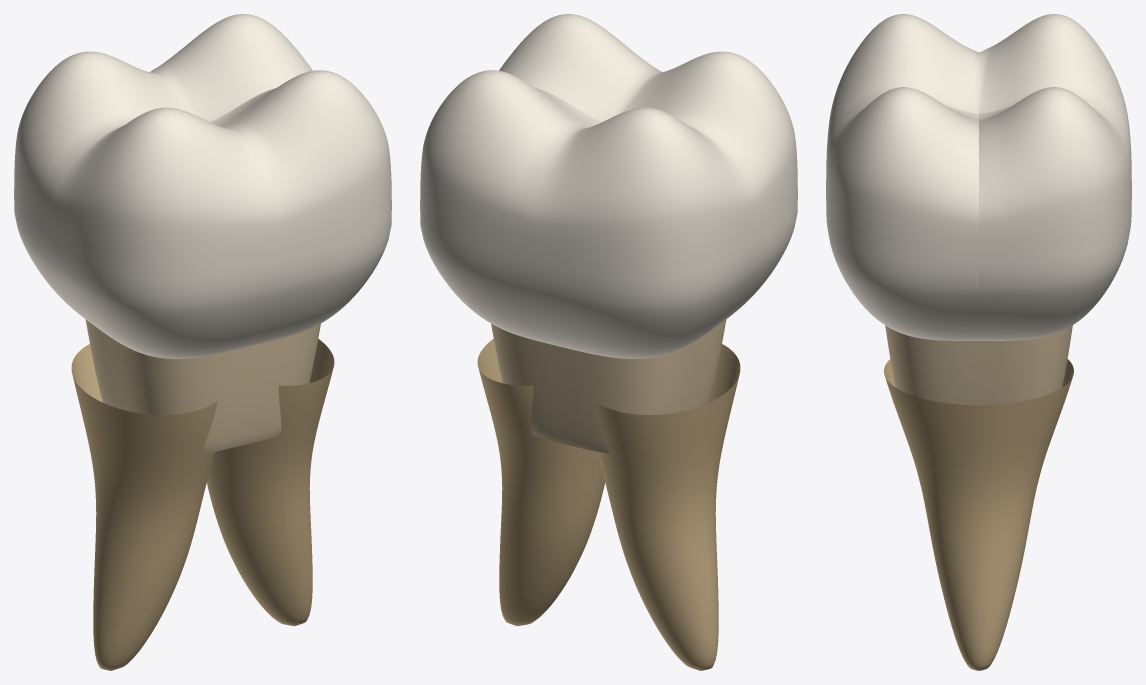
The model's file is dente-molar.obj.
3 renders of one model, left to right at view 1: azimuth 30°, elevation 25°; view 2: azimuth 150°, elevation 25°; view 3: azimuth 270°, elevation 25°, orthographic. The views are drawn at different scales.
Visible parts, largest first — view 1: coroa, raiz_mesial, raiz_distal, colo_cervical; view 2: coroa, raiz_mesial, raiz_distal, colo_cervical; view 3: coroa, raiz_distal, colo_cervical.
Part boxes in pixels (bbox=[...]): coroa: bbox=[14, 14, 391, 358]; raiz_mesial: bbox=[71, 344, 217, 670]; raiz_distal: bbox=[206, 339, 334, 626]; colo_cervical: bbox=[85, 319, 320, 453]; coroa: bbox=[420, 14, 797, 358]; raiz_mesial: bbox=[594, 344, 740, 670]; raiz_distal: bbox=[477, 339, 605, 626]; colo_cervical: bbox=[491, 319, 726, 453]; coroa: bbox=[826, 14, 1131, 340]; raiz_distal: bbox=[884, 340, 1073, 670]; colo_cervical: bbox=[885, 325, 1072, 405].
Bounding box in the file's own units: 0.0124 × 0.0231 × 0.0112.
